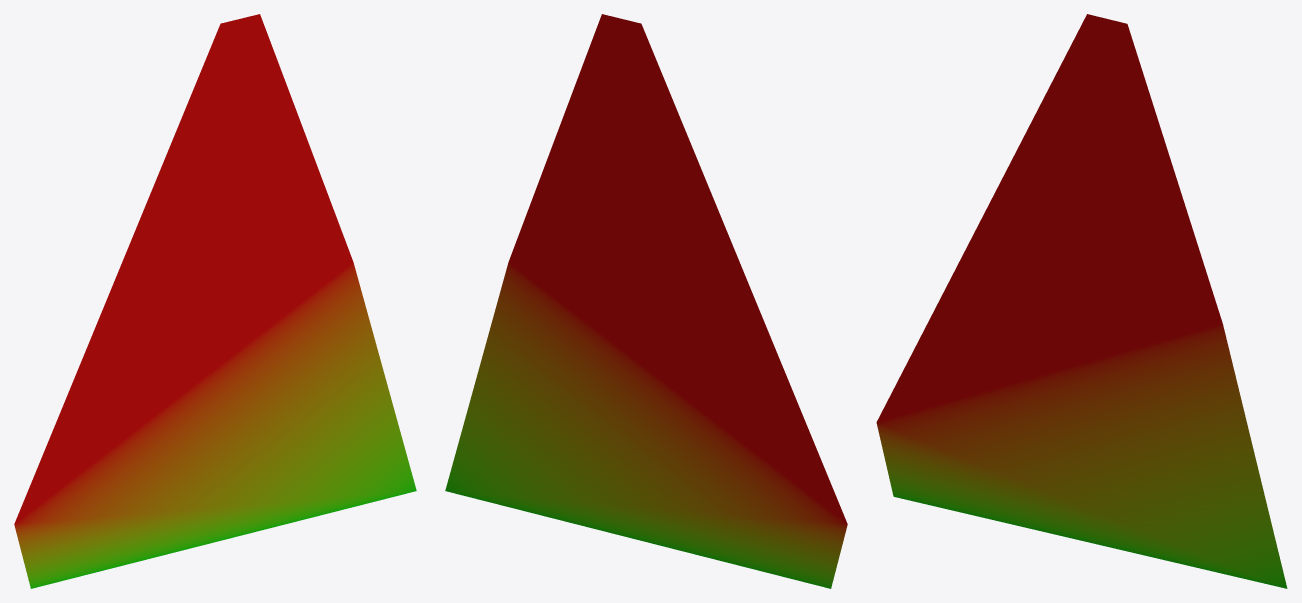
The model's file is Carnation Weed_LOD3_Var6_smdpecor.fbx.
3 renders of one model, left to right at view 1: azimuth 30°, elevation 25°; view 2: azimuth 150°, elevation 25°; view 3: azimuth 330°, elevation 25°, orthographic. The views are drawn at different scales.
Parts seen in each view (by area): view 1: _dbe4_Var6_LOD3; view 2: _dbe4_Var6_LOD3; view 3: _dbe4_Var6_LOD3.
Boxes of the visible parts, <box> form: _dbe4_Var6_LOD3: <box>14,14,416,588</box>; _dbe4_Var6_LOD3: <box>445,14,847,588</box>; _dbe4_Var6_LOD3: <box>876,14,1287,588</box>.
Size of the model in its own units: 18.82 by 23.19 by 9.54e-07.
